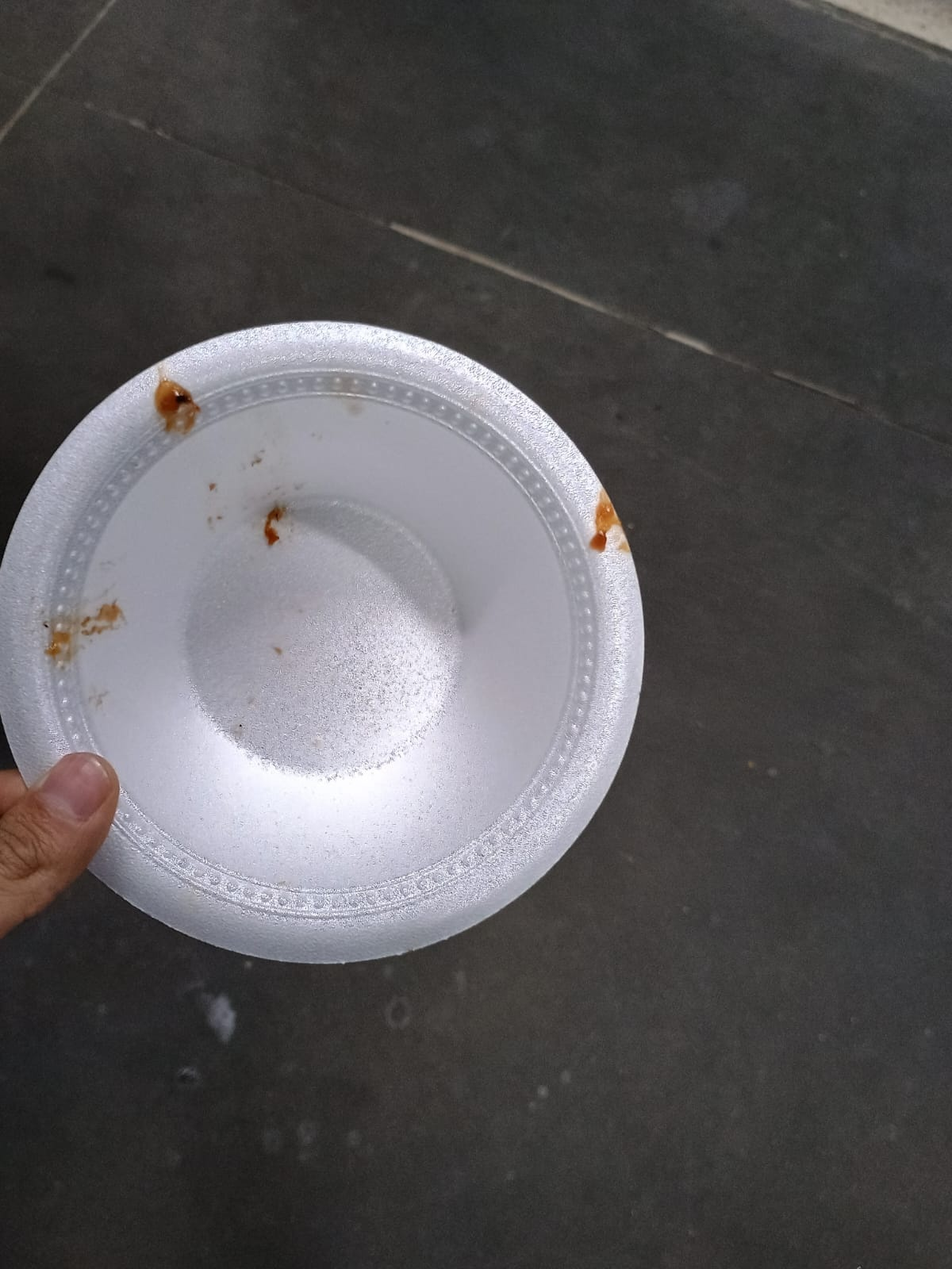Ordinario: (0, 319, 646, 968)
